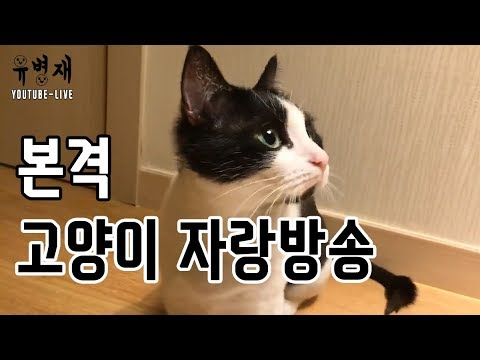cat: (160, 45, 348, 322)
cat-face: (167, 46, 345, 216)
